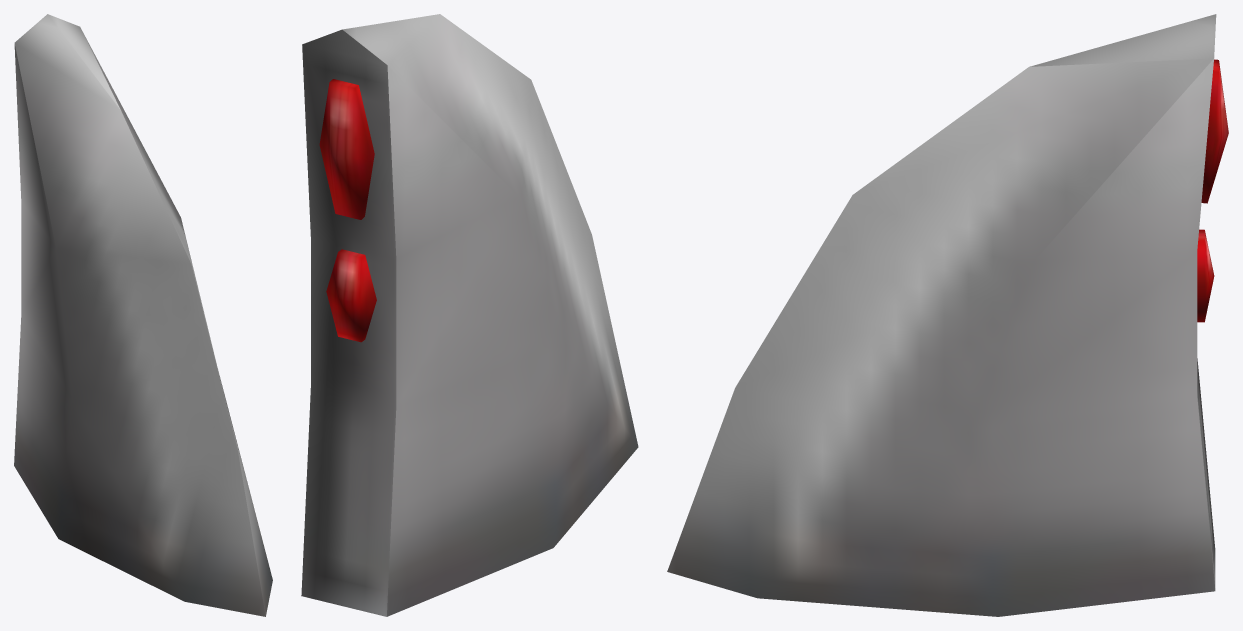
Rendered from acc_30.glb.
The picture shows the model from 3 angles, left to right: view 1: azimuth 30°, elevation 25°; view 2: azimuth 150°, elevation 25°; view 3: azimuth 270°, elevation 25°; orthographic projection. The views are drawn at different scales.
Parts seen in each view (by area): view 1: vertex; view 2: vertex, lights; view 3: vertex, lights.
Part boxes in pixels (left/top/right/bottom): vertex: left=14, top=14, right=272, bottom=616; vertex: left=301, top=14, right=638, bottom=616; lights: left=319, top=79, right=376, bottom=342; vertex: left=667, top=14, right=1216, bottom=616; lights: left=1197, top=59, right=1228, bottom=322.
Size of the model in its own units: 0.2572 by 0.7302 by 0.6664.
Materials: 1 (1 with a texture image).
